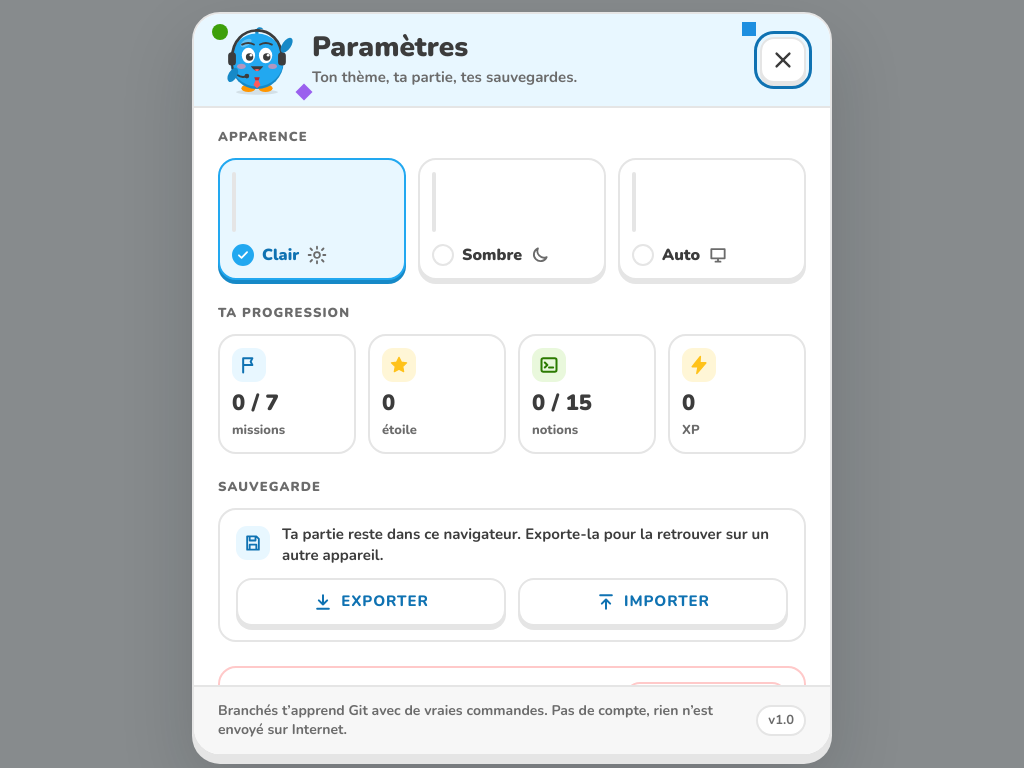
it: panneau paramètres › le thème se bascule et se mémorise
Click the radio button labelled "Sombre" at (512, 219), box [418,158,606,280]
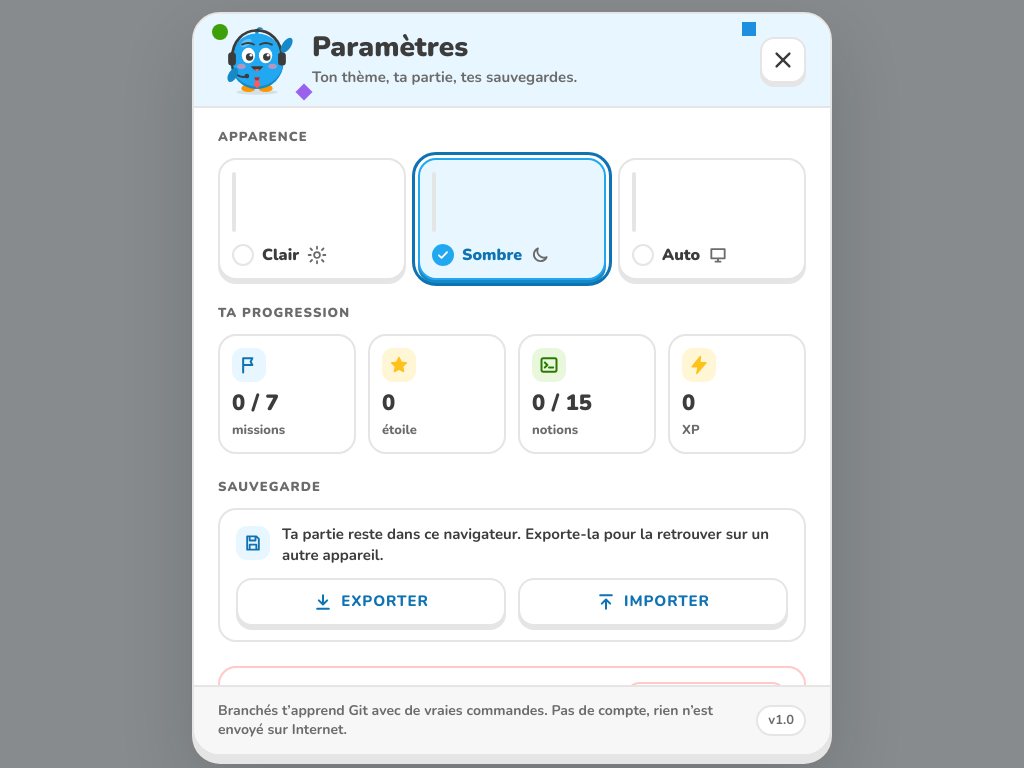
Expected: the radio button labelled "Sombre" is checked, [418,158,606,280]
